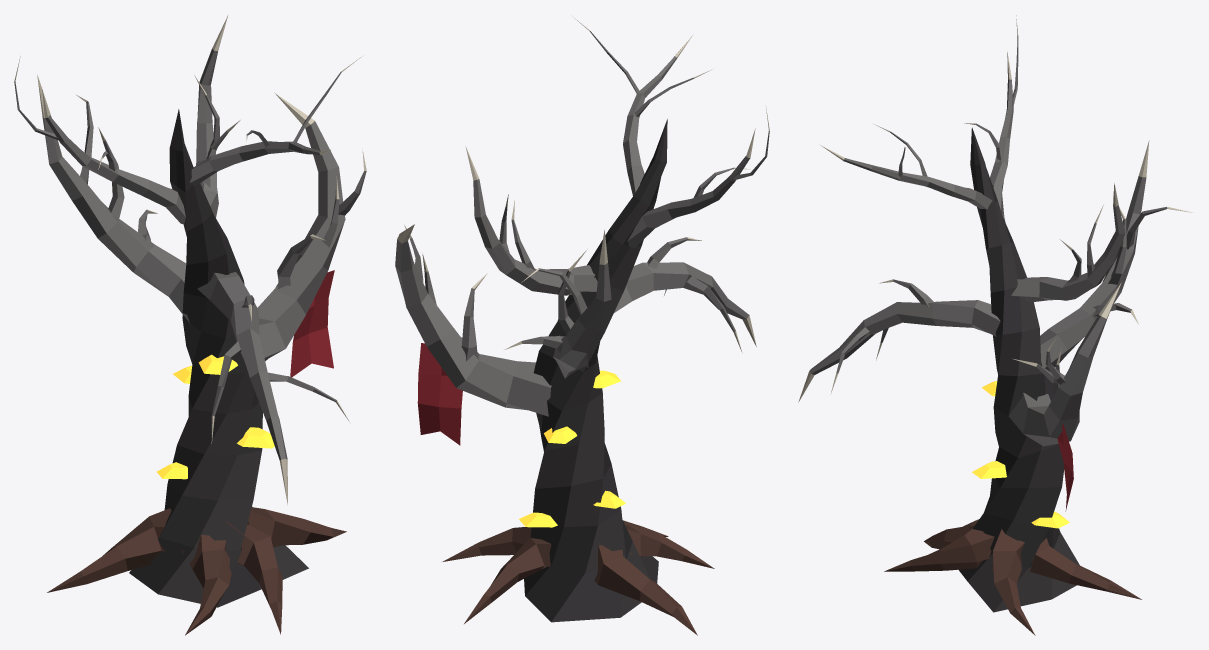
Rendered from tree.glb.
The picture shows the model from 3 angles, left to right: view 1: azimuth 30°, elevation 25°; view 2: azimuth 150°, elevation 25°; view 3: azimuth 270°, elevation 25°; orthographic projection. The views are drawn at different scales.
Visible parts, largest first — view 1: trunk, branch_01, branch_02, branch_03, root_03, rag_crimson, branch_05, root_04, root_05, root_01, branch_04, branch_06 (+4 smaller); view 2: trunk, branch_01, branch_04, rag_crimson, branch_03, root_03, branch_02, root_02, branch_05, branch_06, root_04, root_01 (+2 smaller); view 3: trunk, branch_01, branch_03, branch_02, branch_04, root_05, root_02, root_01, branch_06, branch_05, rag_crimson, root_04.
Boxes of the visible parts, x1,y1,x2,y2 form: trunk: (129, 109, 308, 607); branch_01: (257, 92, 345, 360); branch_02: (37, 75, 190, 324); branch_03: (197, 272, 287, 504); root_03: (47, 508, 174, 592); rag_crimson: (290, 270, 334, 377); branch_05: (42, 89, 185, 224); root_04: (181, 534, 231, 635); root_05: (226, 521, 282, 634); root_01: (248, 507, 346, 547); branch_04: (196, 15, 228, 217); branch_06: (189, 141, 330, 186); trunk: (524, 119, 667, 622); branch_01: (395, 224, 551, 416); branch_04: (465, 146, 597, 295); rag_crimson: (417, 343, 462, 445); branch_03: (614, 262, 756, 346); root_03: (594, 545, 697, 635); branch_02: (553, 230, 611, 378); root_02: (464, 538, 551, 623); branch_05: (627, 128, 755, 248); branch_06: (623, 35, 692, 195); root_04: (625, 525, 714, 568); root_01: (442, 527, 531, 561); trunk: (958, 127, 1079, 612); branch_01: (1008, 282, 1121, 446); branch_03: (798, 300, 1000, 402); branch_02: (1040, 140, 1149, 378); branch_04: (1011, 183, 1125, 302); root_05: (884, 529, 994, 571); root_02: (1029, 538, 1141, 599); root_01: (992, 529, 1035, 635); branch_06: (820, 145, 992, 209); branch_05: (990, 51, 1013, 222); rag_crimson: (1057, 423, 1073, 511); root_04: (924, 519, 979, 549).
Size of what is drawn, in the model's own units: 2.64 by 3.91 by 2.88.
